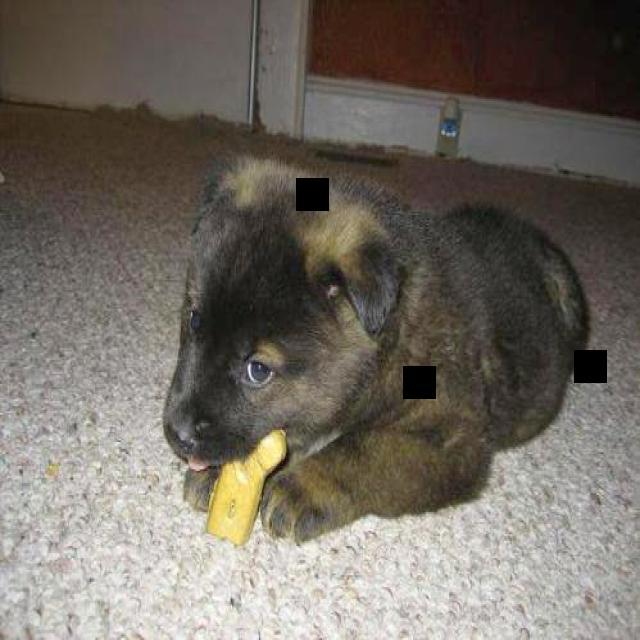puppy-dog: (158, 150, 593, 547)
